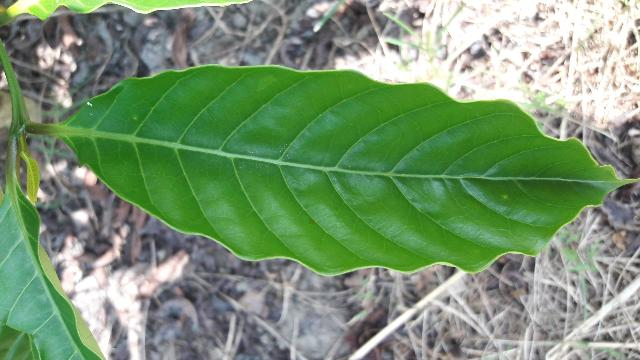healthy: (60, 69, 613, 271)
